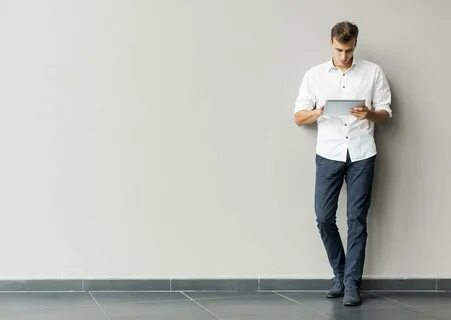awake: (293, 20, 393, 307)
